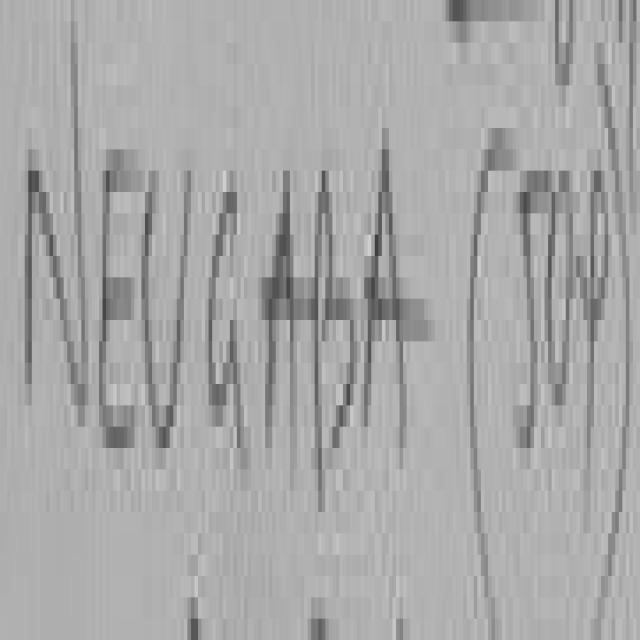0: (548, 171, 576, 405)
5: (516, 171, 550, 448)
A: (364, 128, 407, 469), (265, 171, 297, 459)
B: (315, 171, 357, 512)
E: (99, 149, 141, 448)
G: (209, 192, 244, 437)
N: (25, 21, 88, 427)
U: (141, 171, 191, 448)
p: (590, 171, 612, 480)
